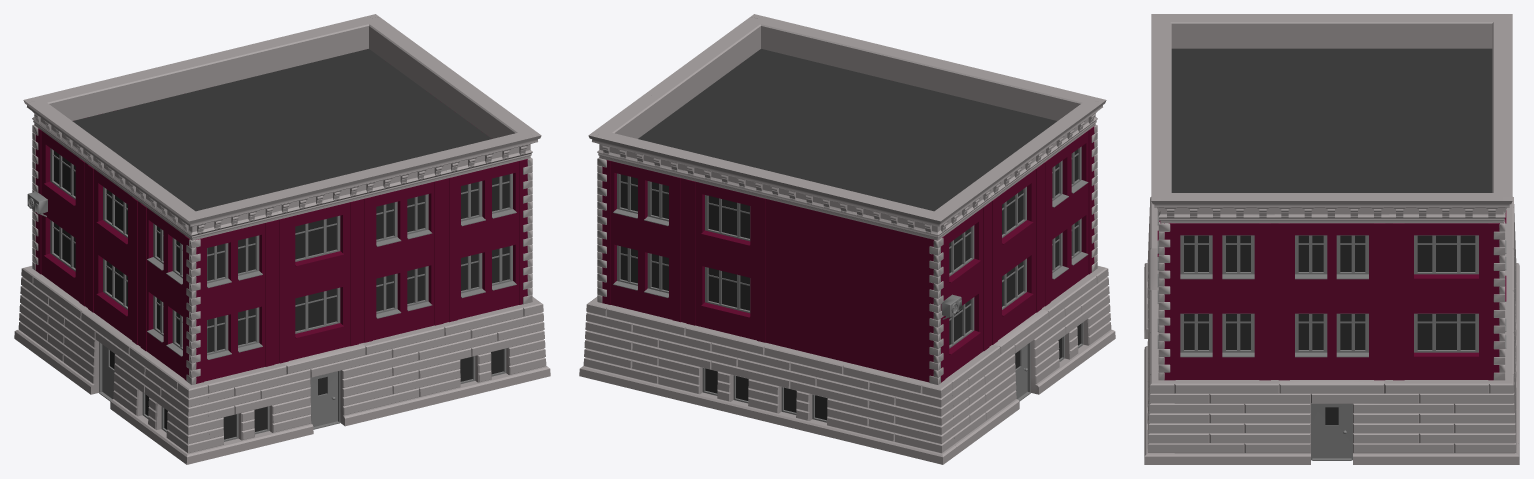
File: Building 8.fbx
3 renders of one model, left to right at view 1: azimuth 30°, elevation 25°; view 2: azimuth 150°, elevation 25°; view 3: azimuth 270°, elevation 25°, orthographic. The views are drawn at different scales.
Visible parts, largest first — view 1: ground_floor_pillar_CV_0.5m.004; view 2: ground_floor_pillar_CV_0.5m.004; view 3: ground_floor_pillar_CV_0.5m.004.
Boxes of the visible parts, x1,y1,x2,y2 form: ground_floor_pillar_CV_0.5m.004: [14, 14, 550, 464]; ground_floor_pillar_CV_0.5m.004: [579, 14, 1115, 464]; ground_floor_pillar_CV_0.5m.004: [1144, 14, 1519, 464].
Bounding box in the file's own units: 1588 × 1001 × 1305.
